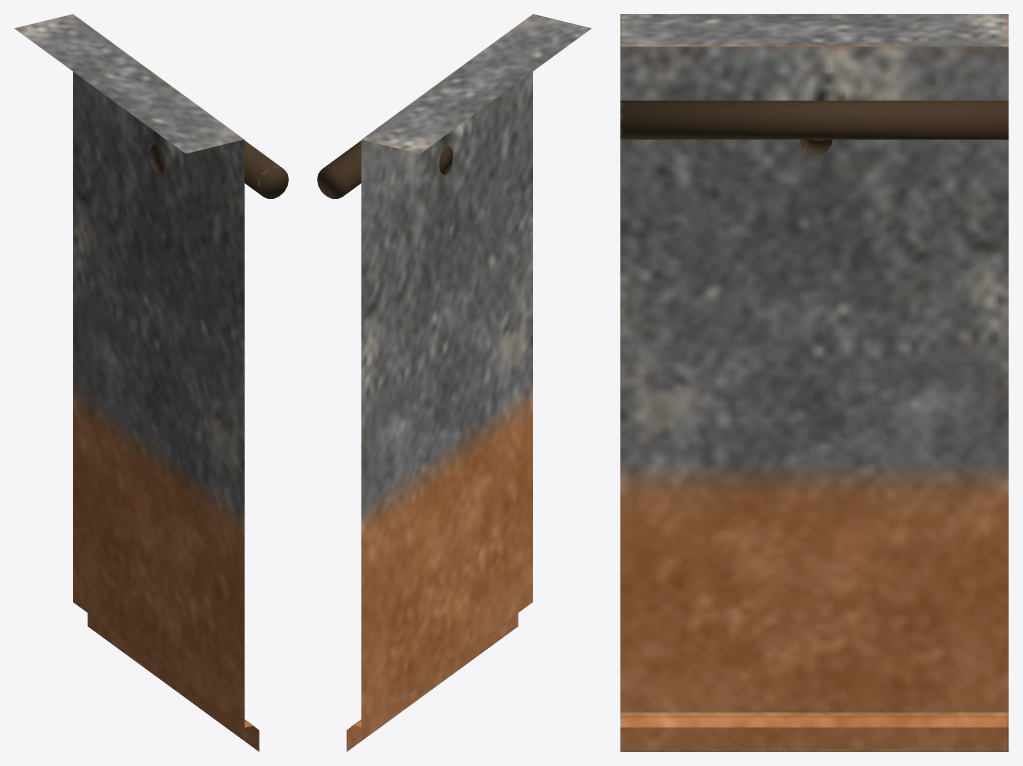
File: wall_with_railing_half.fbx
3 views of the same model, side by side, from view 1: azimuth 30°, elevation 25°; view 2: azimuth 150°, elevation 25°; view 3: azimuth 270°, elevation 25° (orthographic). The views are drawn at different scales.
Parts seen in each view (by area): view 1: Half; view 2: Half; view 3: Half.
Part boxes in pixels (x1,y1,x2,y2): Half: (14, 14, 288, 751); Half: (317, 14, 591, 751); Half: (620, 14, 1008, 751).
Size of the model in its own units: 1.01 by 2 by 0.3505.
1 material, 1 textured.
